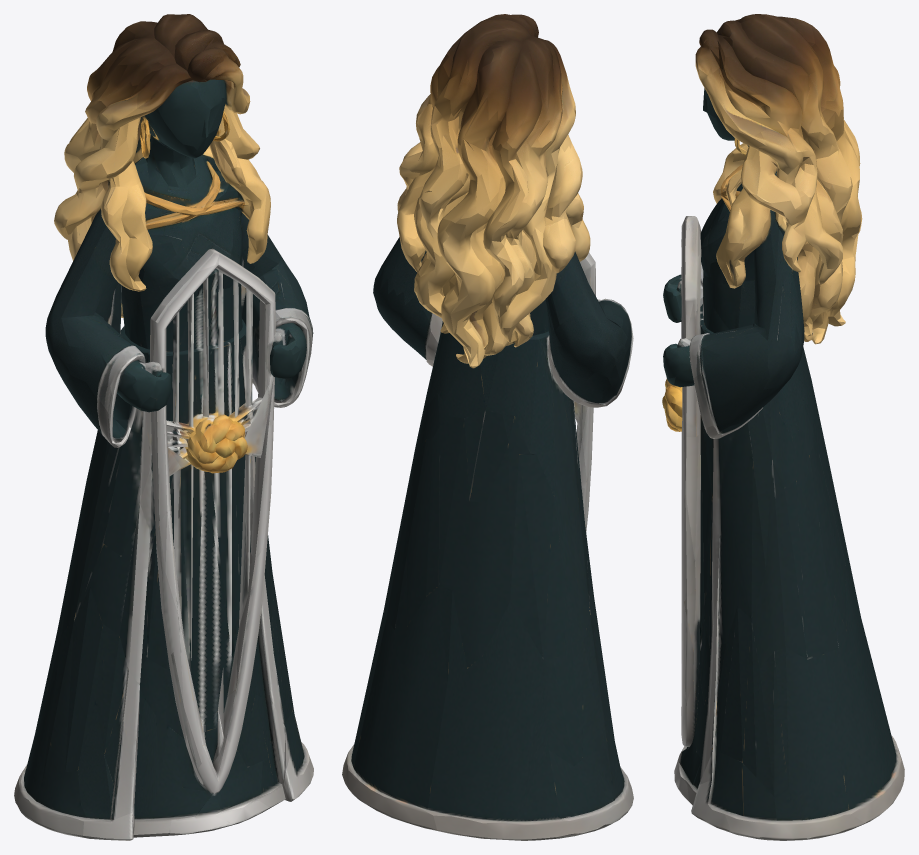
The picture shows the model from 3 angles, left to right: view 1: azimuth 30°, elevation 25°; view 2: azimuth 150°, elevation 25°; view 3: azimuth 270°, elevation 25°; orthographic projection. The views are drawn at different scales.
Bounding box in the file's own units: 0.6992 × 1.9 × 0.5481.
Materials: 1 (1 with a texture image).
